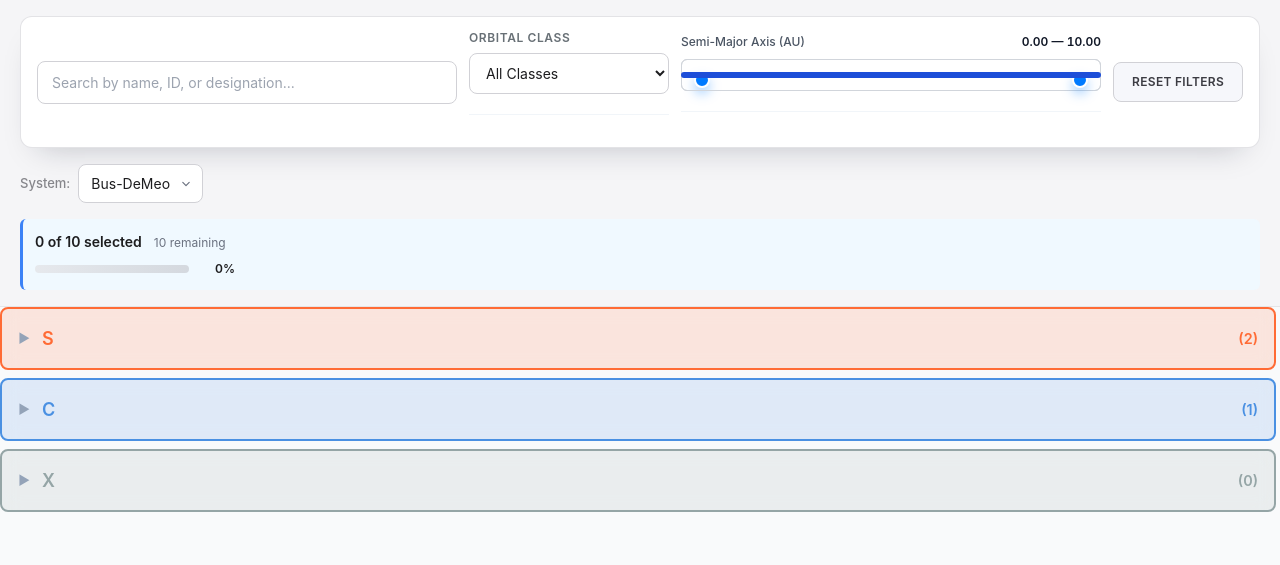
Test: TaxonomyTree › handles empty asteroid lists in a classification
The image size is (1280, 565).
Expected: the text "X" is shown, left=42, top=470, right=55, bottom=491
Click the button with class "classification-header" showing "▶ X (0)": {"x": 24, "y": 480} left=0, top=449, right=1276, bottom=512
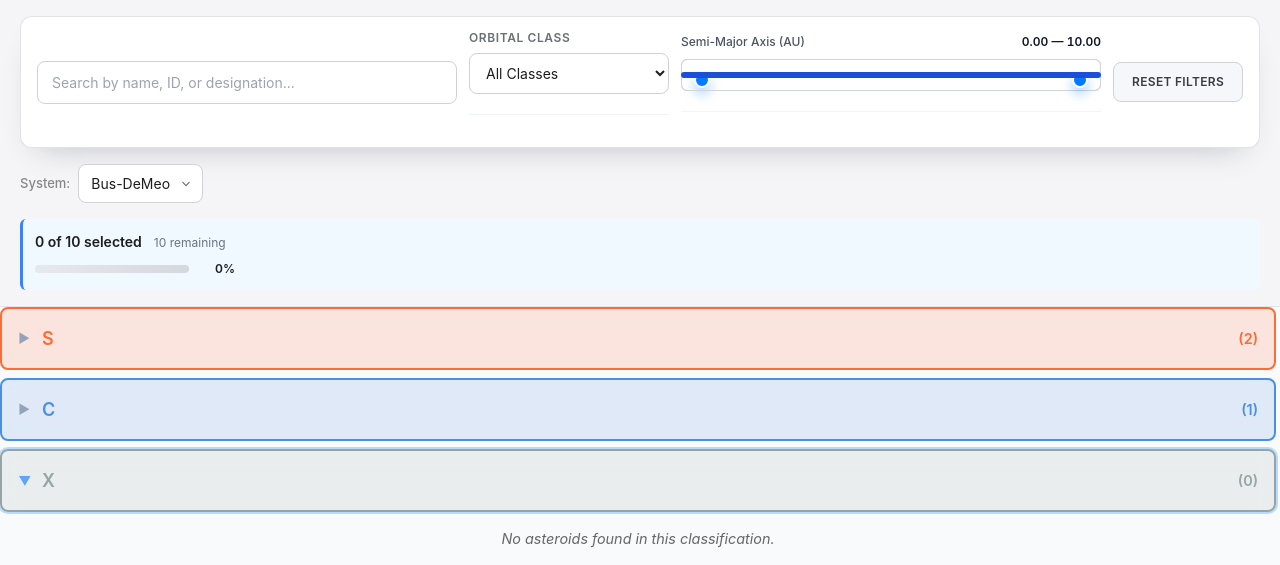
Expected: the text "No asteroids found in this classification." is shown, left=501, top=530, right=774, bottom=547
